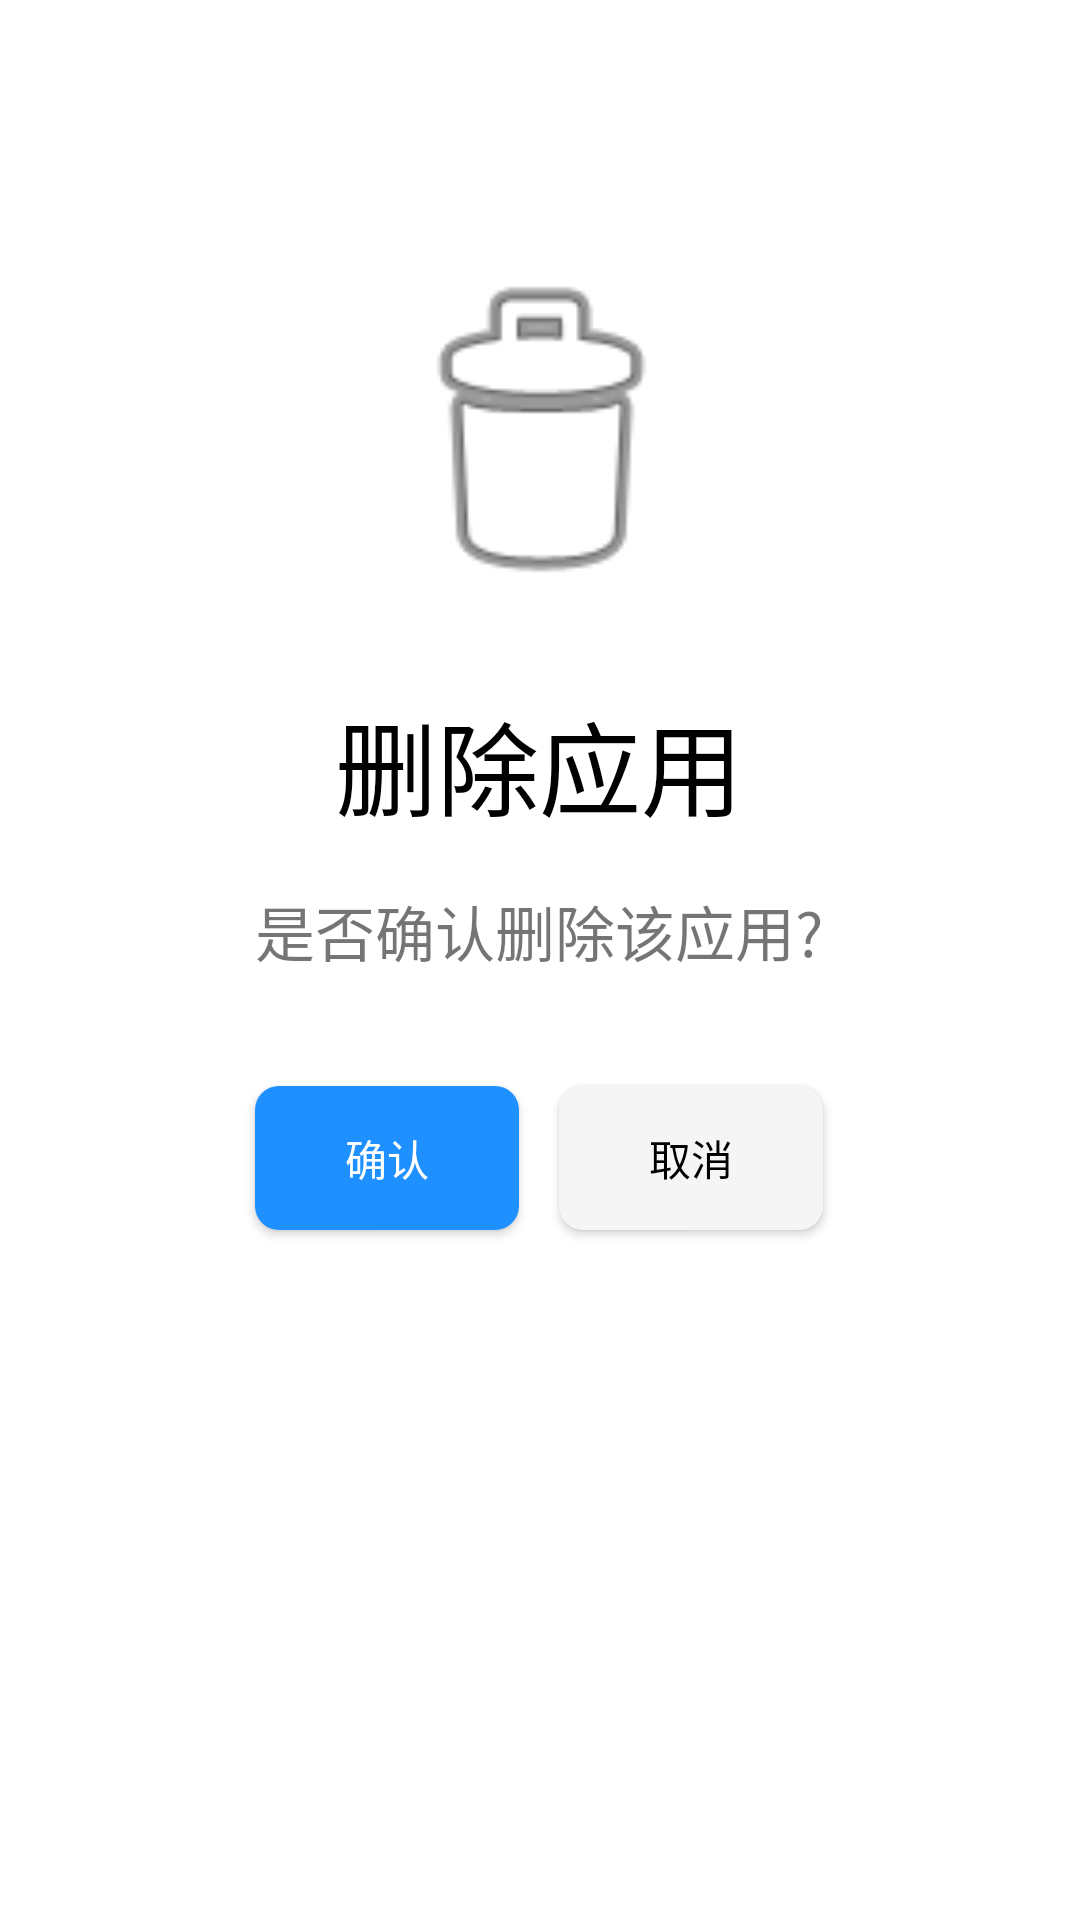

Locate icon controls on the screen. Image size 1080 × 1920, boxes as (x1, y1, x2, y2).
delete: (438, 287, 645, 572)
